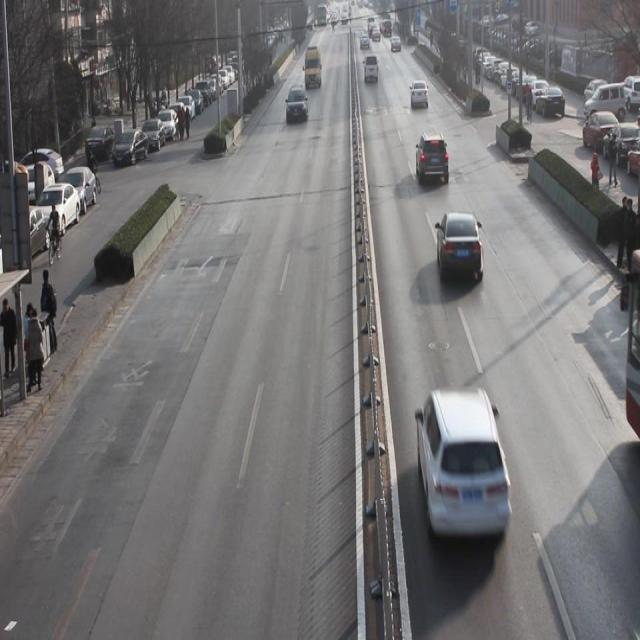car: (414, 387, 515, 550), (433, 210, 485, 287), (415, 133, 452, 187), (285, 84, 310, 128), (410, 78, 430, 112)
truck: (304, 44, 324, 86), (364, 48, 382, 89)
